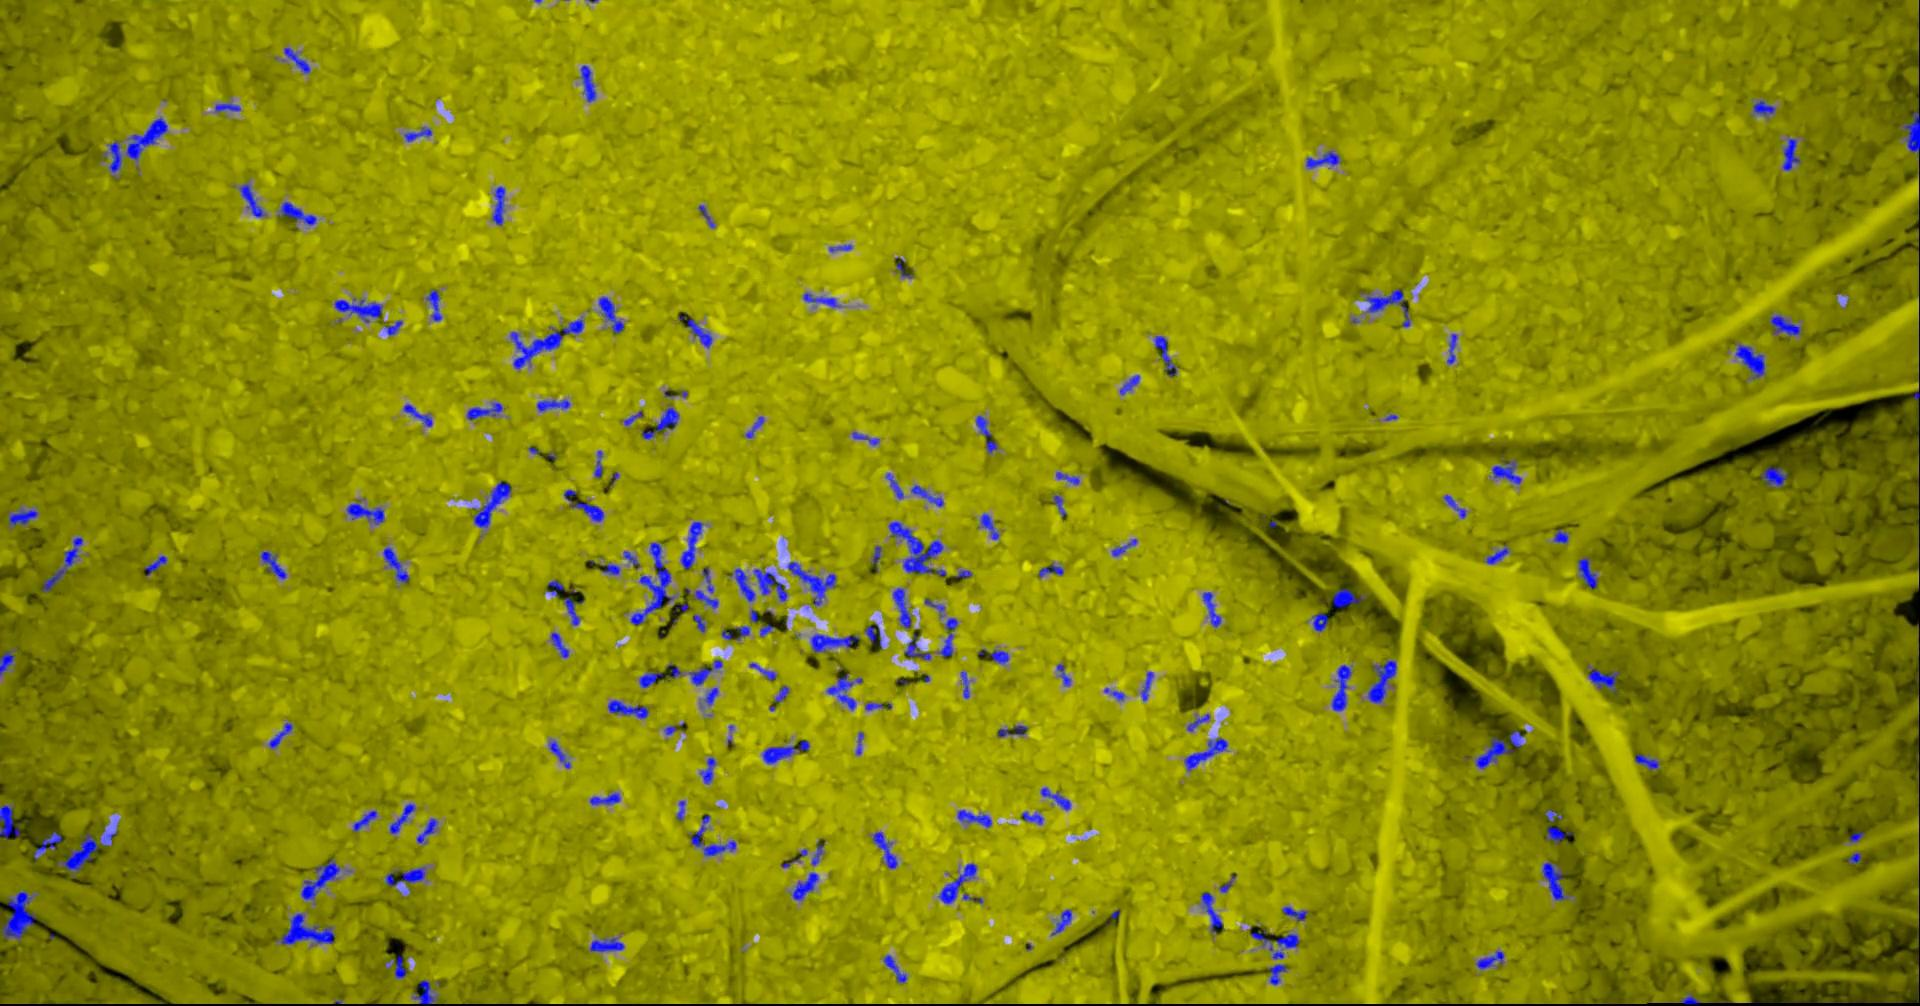ant: (509, 316, 583, 368), (630, 542, 673, 624), (57, 826, 117, 873), (41, 536, 83, 592), (787, 561, 836, 605), (124, 117, 168, 161), (690, 814, 735, 856), (276, 913, 335, 944), (0, 890, 36, 941), (472, 480, 510, 527), (1476, 730, 1523, 768), (1364, 288, 1410, 326), (300, 857, 339, 899), (937, 862, 977, 903), (1250, 926, 1299, 958), (1183, 737, 1227, 770), (825, 672, 862, 709), (563, 489, 603, 521), (1898, 98, 1919, 158), (1368, 659, 1396, 702), (678, 314, 712, 348), (643, 406, 678, 439), (334, 298, 382, 323), (753, 568, 787, 601), (681, 521, 703, 569), (762, 741, 809, 763), (1735, 344, 1764, 379), (1542, 861, 1567, 901), (1544, 809, 1572, 843), (598, 296, 623, 333), (383, 546, 409, 583), (1200, 890, 1222, 934), (1153, 335, 1176, 376), (1331, 664, 1351, 710), (278, 201, 316, 225), (810, 633, 858, 652), (872, 831, 897, 868), (1587, 666, 1619, 694), (239, 183, 264, 217), (688, 659, 721, 685), (975, 415, 997, 453), (345, 503, 383, 525), (789, 873, 818, 901), (389, 803, 415, 833), (383, 868, 425, 887), (730, 568, 754, 601), (32, 831, 61, 857), (1491, 459, 1521, 484), (891, 587, 910, 627), (607, 699, 648, 718), (1769, 314, 1801, 338), (938, 617, 957, 657), (910, 484, 943, 506), (903, 633, 930, 659), (260, 551, 286, 579), (1201, 591, 1220, 627), (0, 804, 19, 841), (1040, 788, 1070, 810), (100, 140, 122, 171), (1332, 588, 1365, 608), (403, 403, 432, 426), (283, 47, 309, 72), (411, 979, 437, 1005), (268, 721, 292, 748), (883, 954, 905, 982), (466, 401, 502, 419), (1782, 137, 1801, 170), (1577, 558, 1597, 588), (956, 809, 990, 827), (549, 741, 570, 768), (1305, 150, 1338, 168), (580, 64, 596, 102), (803, 292, 839, 307), (1443, 494, 1465, 518), (417, 818, 438, 843), (1760, 466, 1787, 486), (1476, 950, 1503, 969), (352, 809, 376, 831), (8, 508, 37, 526), (768, 685, 789, 710), (1050, 909, 1070, 935), (491, 185, 504, 225), (1484, 544, 1509, 564), (425, 290, 441, 321), (980, 513, 999, 539), (863, 622, 883, 648), (589, 937, 623, 951), (143, 555, 166, 575), (693, 589, 717, 608), (885, 473, 903, 498), (1111, 539, 1137, 556), (550, 631, 568, 657), (749, 662, 775, 680), (564, 596, 579, 625), (698, 756, 715, 782), (403, 126, 430, 141), (536, 399, 569, 412), (1119, 373, 1139, 394), (894, 257, 913, 278), (745, 415, 763, 438), (1186, 713, 1209, 730), (0, 649, 15, 674), (1269, 963, 1286, 984), (1752, 99, 1775, 116), (639, 671, 662, 687), (852, 431, 879, 445), (1140, 671, 1153, 700), (1634, 753, 1658, 768), (924, 597, 943, 616), (1037, 563, 1063, 577), (1281, 906, 1307, 920), (698, 205, 714, 227), (997, 725, 1027, 737), (589, 793, 620, 804), (1310, 612, 1328, 631), (1051, 494, 1065, 517), (1057, 663, 1070, 686), (383, 319, 403, 335), (1446, 333, 1457, 363), (1055, 471, 1079, 484), (811, 840, 824, 864), (394, 954, 406, 978), (1021, 810, 1043, 824), (623, 410, 643, 426), (989, 649, 1008, 664), (546, 579, 563, 596), (702, 567, 712, 592), (1103, 687, 1124, 700), (733, 625, 749, 640), (593, 450, 602, 478), (960, 671, 969, 699), (703, 687, 717, 705), (1679, 993, 1700, 1005), (692, 614, 705, 633), (623, 551, 637, 568), (667, 662, 681, 678), (871, 545, 880, 570), (599, 563, 618, 574), (855, 730, 863, 754), (1553, 528, 1568, 542), (215, 103, 240, 111), (828, 244, 852, 251), (676, 800, 684, 821), (1848, 831, 1863, 842), (1846, 852, 1862, 862), (863, 702, 883, 710)
